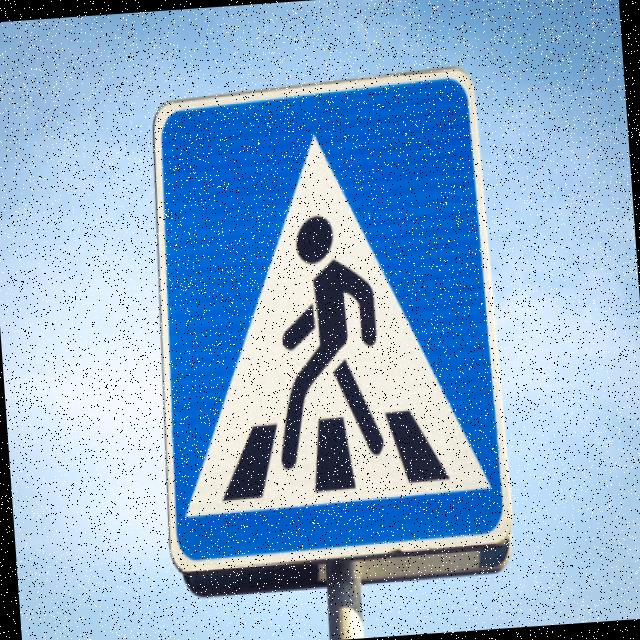crosswalk: (131, 55, 518, 586)
